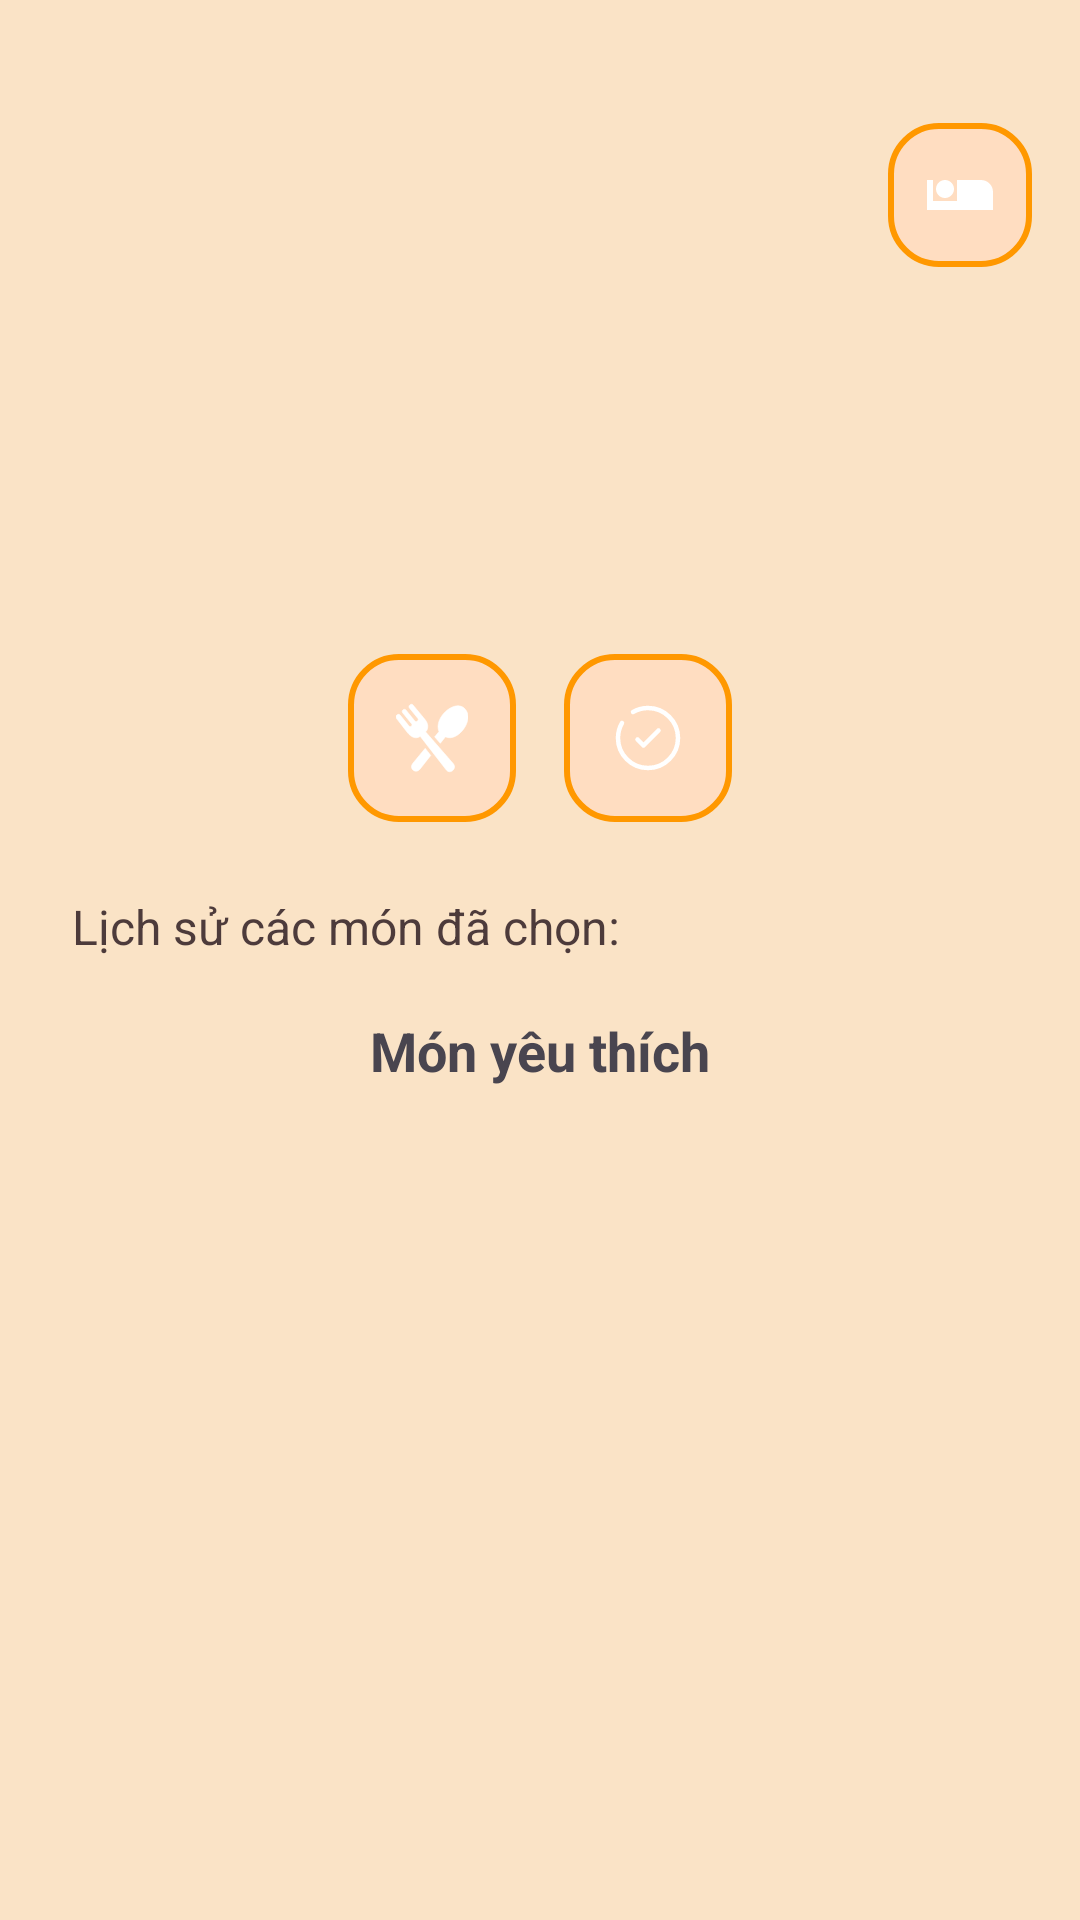

Where icons sit on this 1080px×1920px app screen, as (x1, y1, x2, y2):
Chấp nhận món ăn: (564, 654, 732, 822)
